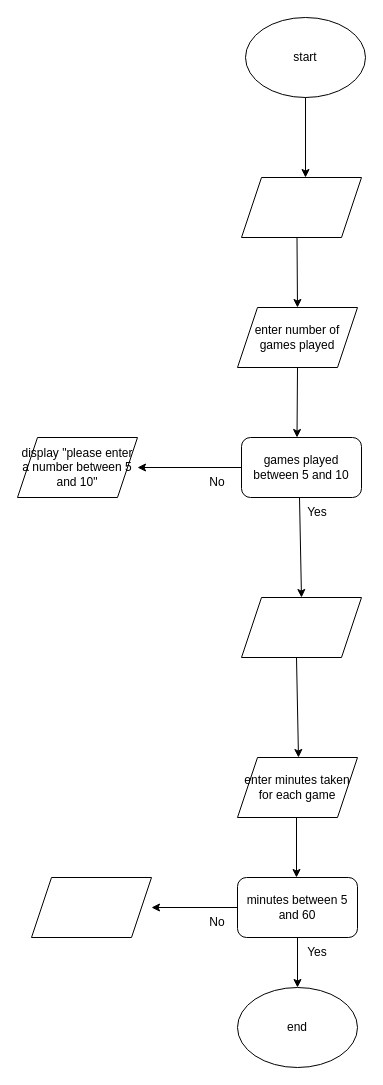
This 383x1085 diagram has some shape labels left out. The box of each missing label's shape, as (x1, y1, x2, y2) in pixels:
display "please enter a number between 5 and 60": (30, 876, 152, 938)
enter player ID: (240, 176, 362, 238)
enter score: (240, 596, 362, 658)
